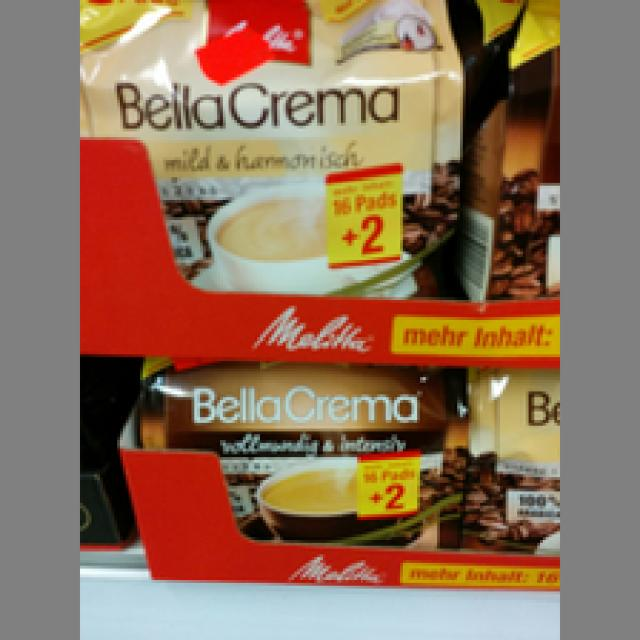groceries: (80, 0, 463, 291), (137, 354, 457, 543)
